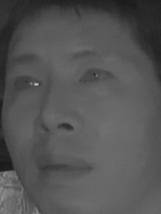eye: (75, 67, 119, 89), (6, 73, 44, 97)
mouth: (27, 150, 92, 187)
